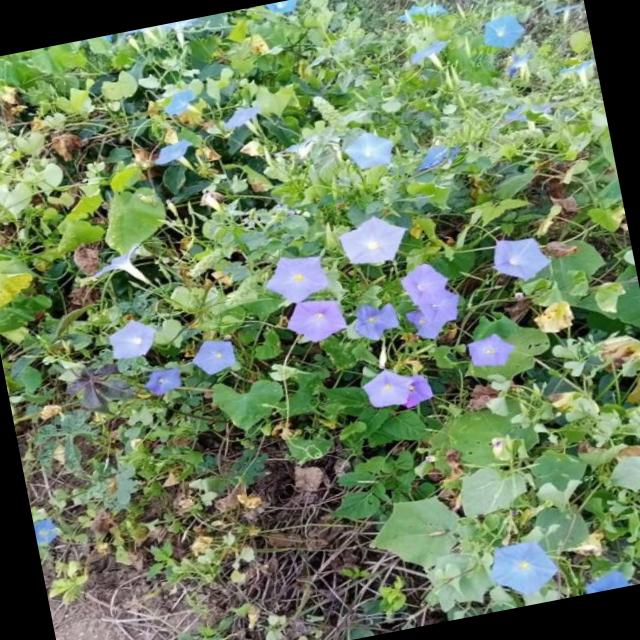ipomoea: (0, 0, 640, 640), (390, 255, 470, 347), (478, 533, 566, 605), (329, 208, 416, 276), (255, 247, 337, 313), (354, 358, 438, 419), (482, 228, 557, 292), (278, 292, 354, 352), (99, 314, 164, 368), (459, 327, 522, 378), (183, 332, 244, 383)
